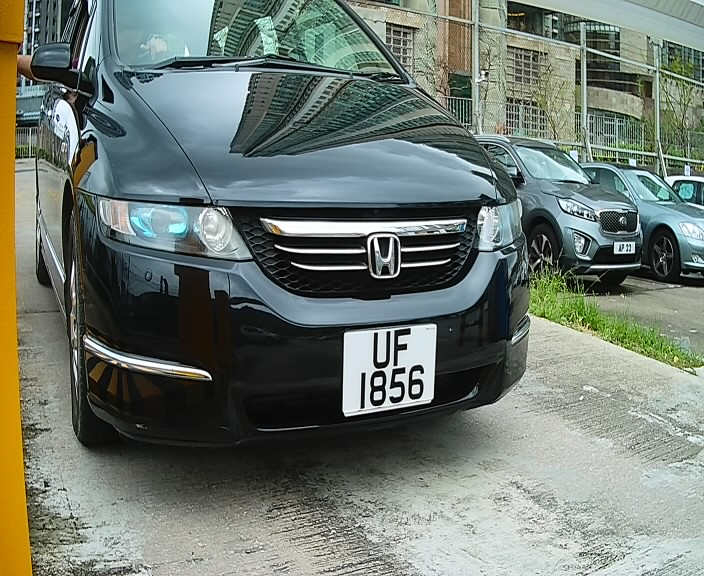Car: (43, 2, 538, 491)
License Plate: (340, 317, 444, 423)
